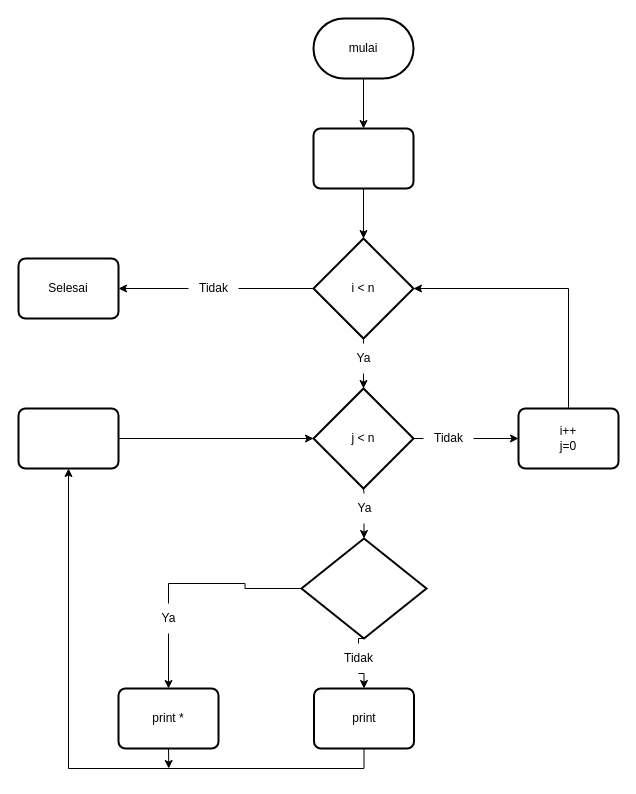
Some shapes in this 636 by 794 pixel diagram are drawn without their labels. Here are the shapes that lost their labels. From the top down, the centre of each, then its label:
point (363, 158): User input n i, j = 0
point (68, 438): j++
point (363, 588): i==j atau i+j ==k-1
